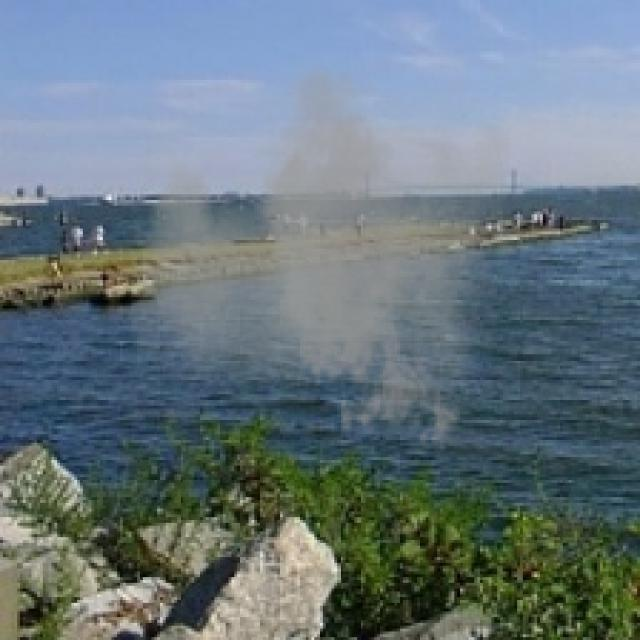Smoke: (128, 52, 512, 457)
